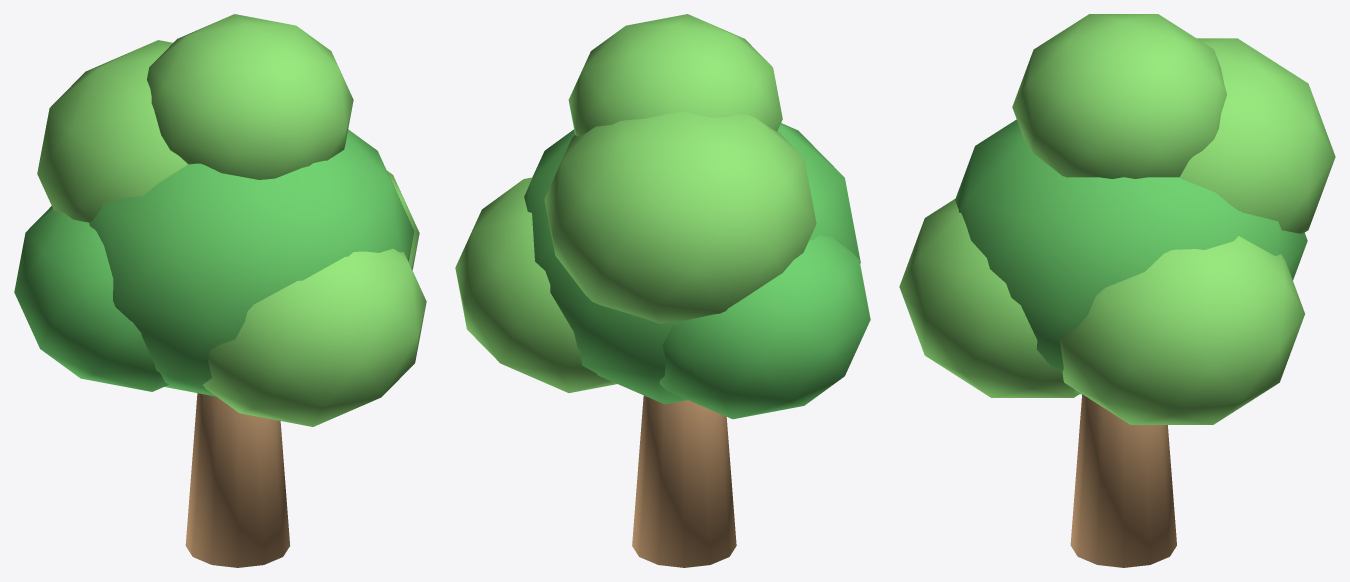
The model's file is prop_tree_puffy.glb.
3 views of the same model, side by side, from view 1: azimuth 30°, elevation 25°; view 2: azimuth 150°, elevation 25°; view 3: azimuth 270°, elevation 25° (orthographic).
Parts seen in each view (by area): view 1: Mesh_Tree_Canopy, Mesh_Tree_Trunk; view 2: Mesh_Tree_Canopy, Mesh_Tree_Trunk; view 3: Mesh_Tree_Canopy, Mesh_Tree_Trunk.
Part boxes in pixels (box(x1,y1,x2,y2)): Mesh_Tree_Canopy: box(14, 14, 426, 426); Mesh_Tree_Trunk: box(185, 393, 290, 567); Mesh_Tree_Canopy: box(455, 14, 870, 419); Mesh_Tree_Trunk: box(632, 395, 736, 567); Mesh_Tree_Canopy: box(899, 14, 1335, 424); Mesh_Tree_Trunk: box(1070, 394, 1176, 567).
Size of what is drawn, in the model's own units: 3.44 by 4.6 by 3.44.
